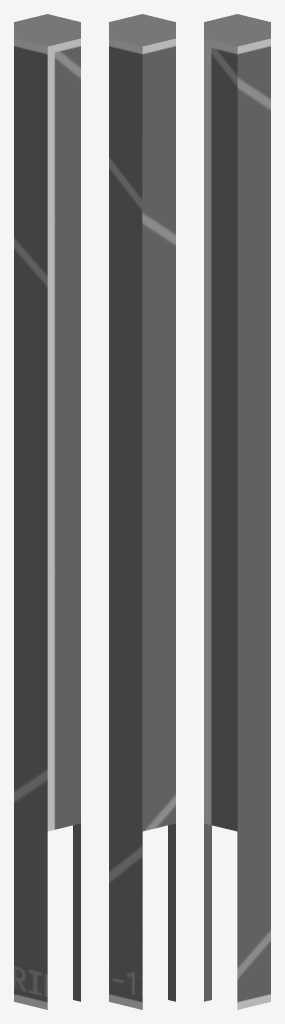
File: XOLOTL-79-Plasma-Projector.obj
3 renders of one model, left to right at view 1: azimuth 30°, elevation 25°; view 2: azimuth 150°, elevation 25°; view 3: azimuth 330°, elevation 25°, orthographic.
Visible parts, largest first — view 1: XOLOTL-79-Plasma-Projector; view 2: XOLOTL-79-Plasma-Projector; view 3: XOLOTL-79-Plasma-Projector.
Boxes of the visible parts, bbox=[...] form: XOLOTL-79-Plasma-Projector: bbox=[14, 14, 80, 1009]; XOLOTL-79-Plasma-Projector: bbox=[109, 14, 175, 1009]; XOLOTL-79-Plasma-Projector: bbox=[204, 14, 270, 1009].
Size of the model in its own units: 0.1962 by 2.7 by 0.1699.
